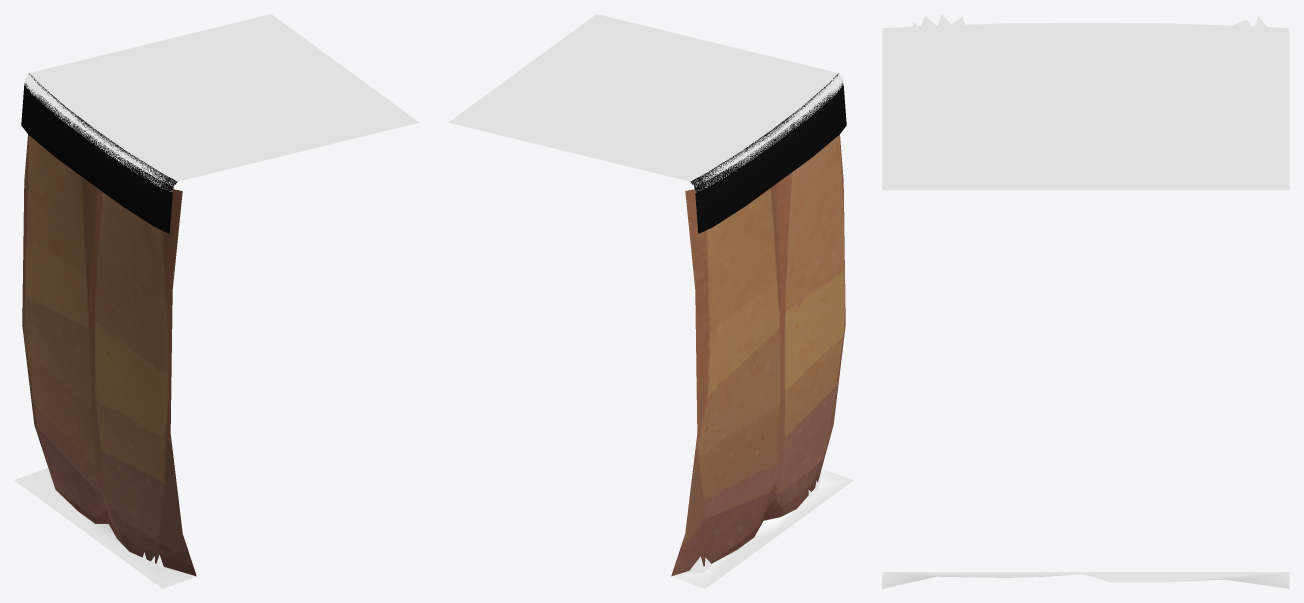
3 renders of one model, left to right at view 1: azimuth 30°, elevation 25°; view 2: azimuth 150°, elevation 25°; view 3: azimuth 270°, elevation 25°, orthographic. The views are drawn at different scales.
Parts seen in each view (by area): view 1: CliffB__mCliff, GrassT__mGrass, GrassOP__mGrassCliffXlu, GrassB__mGrass; view 2: CliffB__mCliff, GrassT__mGrass, GrassOP__mGrassCliffXlu, GrassB__mGrass; view 3: GrassT__mGrass, GrassB__mGrass, PGrassBB__mProcGrass.
Boxes of the visible parts, left/top/right/bottom form: CliffB__mCliff: left=22, top=134, right=196, bottom=576; GrassT__mGrass: left=24, top=14, right=419, bottom=191; GrassOP__mGrassCliffXlu: left=21, top=73, right=177, bottom=233; GrassB__mGrass: left=14, top=468, right=196, bottom=588; CliffB__mCliff: left=671, top=134, right=845, bottom=576; GrassT__mGrass: left=448, top=14, right=843, bottom=192; GrassOP__mGrassCliffXlu: left=690, top=73, right=846, bottom=233; GrassB__mGrass: left=671, top=469, right=853, bottom=588; GrassT__mGrass: left=882, top=23, right=1289, bottom=190; GrassB__mGrass: left=882, top=572, right=1289, bottom=588; PGrassBB__mProcGrass: left=910, top=14, right=1270, bottom=32.
Size of the model in its own units: 10 by 15.32 by 10.
4 materials, 1 textured.
